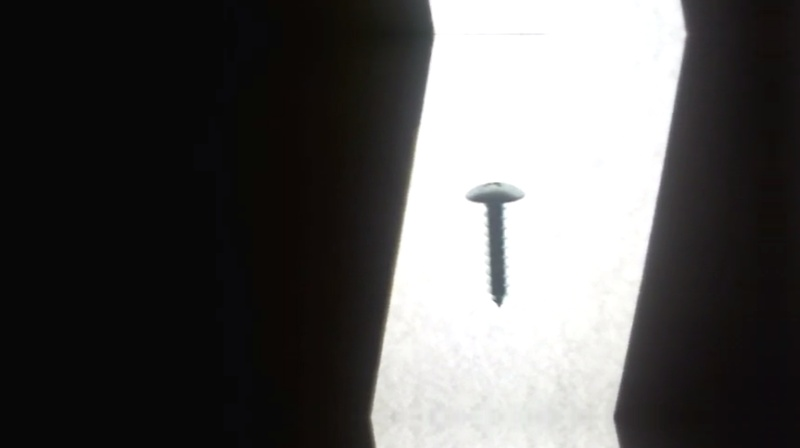S003: (460, 176, 528, 309)
